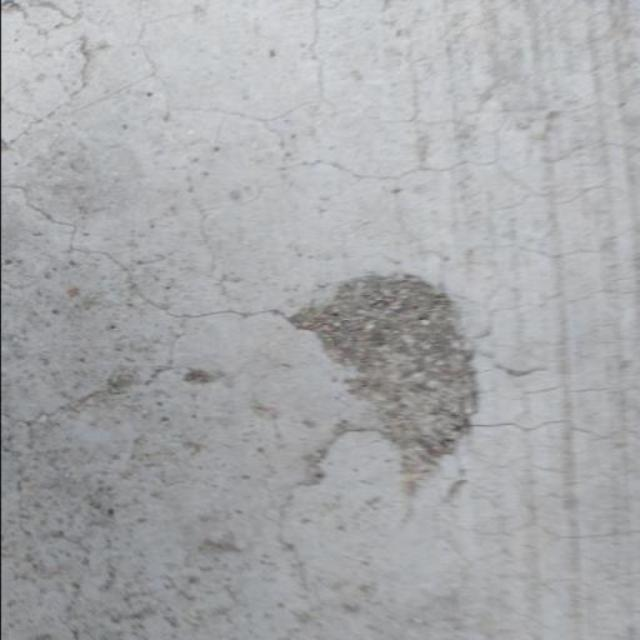D10: (290, 274, 481, 485)
